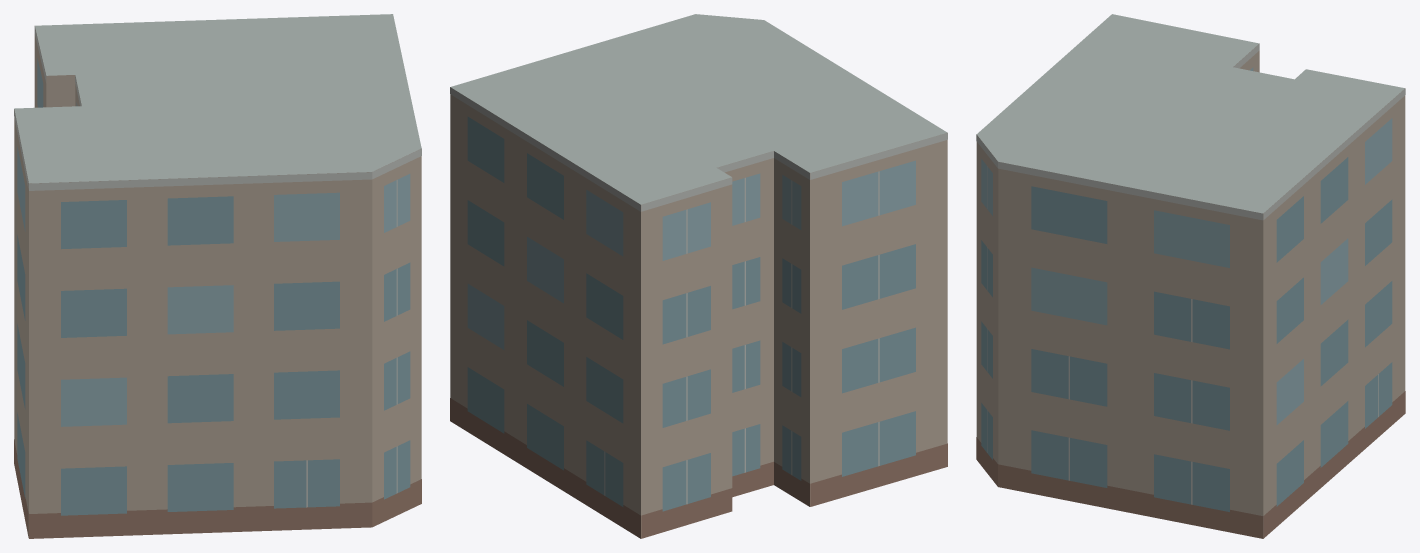
Rendered from survey-upis-32992264.glb.
The picture shows the model from 3 angles, left to right: view 1: azimuth 30°, elevation 25°; view 2: azimuth 150°, elevation 25°; view 3: azimuth 270°, elevation 25°; orthographic projection. The views are drawn at different scales.
Visible parts, largest first — view 1: survey-upis-32992264.tmp; view 2: survey-upis-32992264.tmp; view 3: survey-upis-32992264.tmp.
Part boxes in pixels (x1,y1,x2,y2): survey-upis-32992264.tmp: (14,14,421,538); survey-upis-32992264.tmp: (450,14,947,538); survey-upis-32992264.tmp: (976,14,1405,538).
Bounding box in the file's own units: 15.11 × 11.48 × 13.72.
